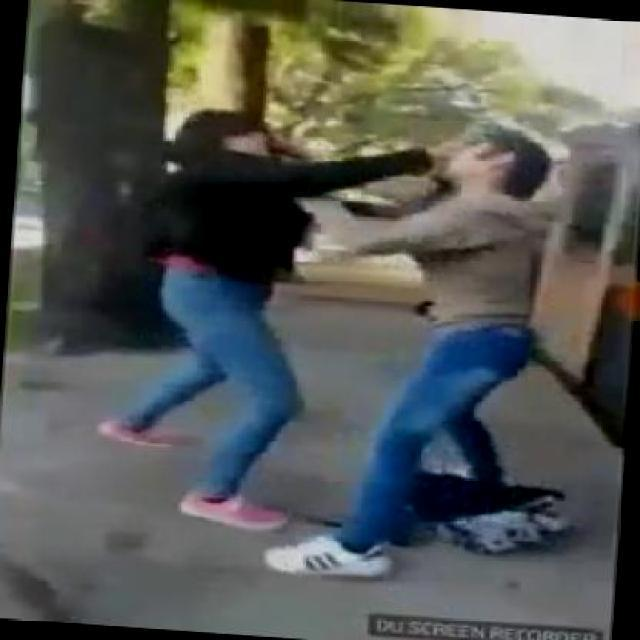fight: (137, 104, 566, 433)
